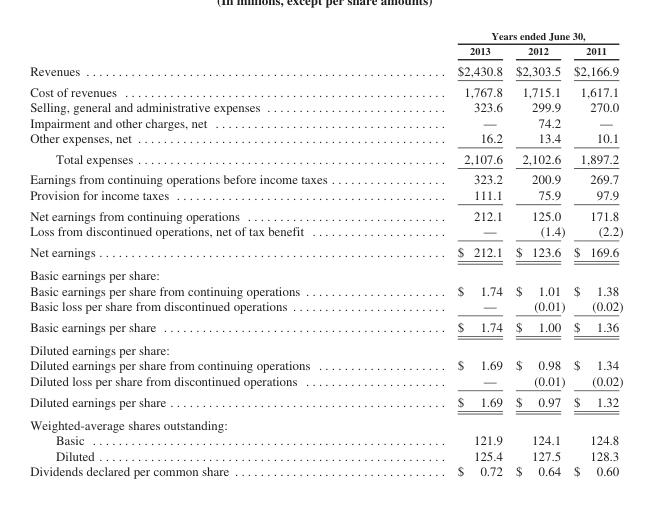table: (29, 29, 622, 478)
table column: (29, 29, 391, 478), (391, 29, 508, 478), (508, 29, 568, 478), (568, 29, 622, 478)
table column header: (29, 29, 622, 59)
table projected row header: (29, 262, 622, 282), (29, 337, 622, 357), (29, 412, 622, 432)
table row: (29, 315, 622, 337), (29, 390, 622, 412), (29, 59, 622, 80), (29, 147, 622, 168), (29, 241, 622, 262), (29, 262, 622, 282), (29, 337, 622, 357), (29, 412, 622, 432), (29, 222, 622, 241), (29, 80, 622, 98), (29, 129, 622, 147), (29, 168, 622, 186), (29, 186, 622, 204), (29, 204, 622, 222), (29, 297, 622, 315), (29, 372, 622, 390), (29, 42, 622, 59), (29, 98, 622, 114), (29, 447, 622, 463), (29, 114, 622, 129), (29, 282, 622, 297), (29, 357, 622, 372), (29, 432, 622, 447), (29, 463, 622, 478), (29, 29, 622, 42)
table spanning cell: (391, 29, 622, 42)
